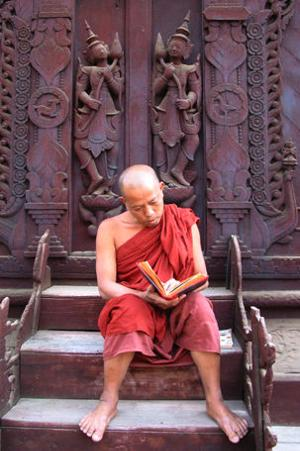person: (80, 164, 250, 446)
